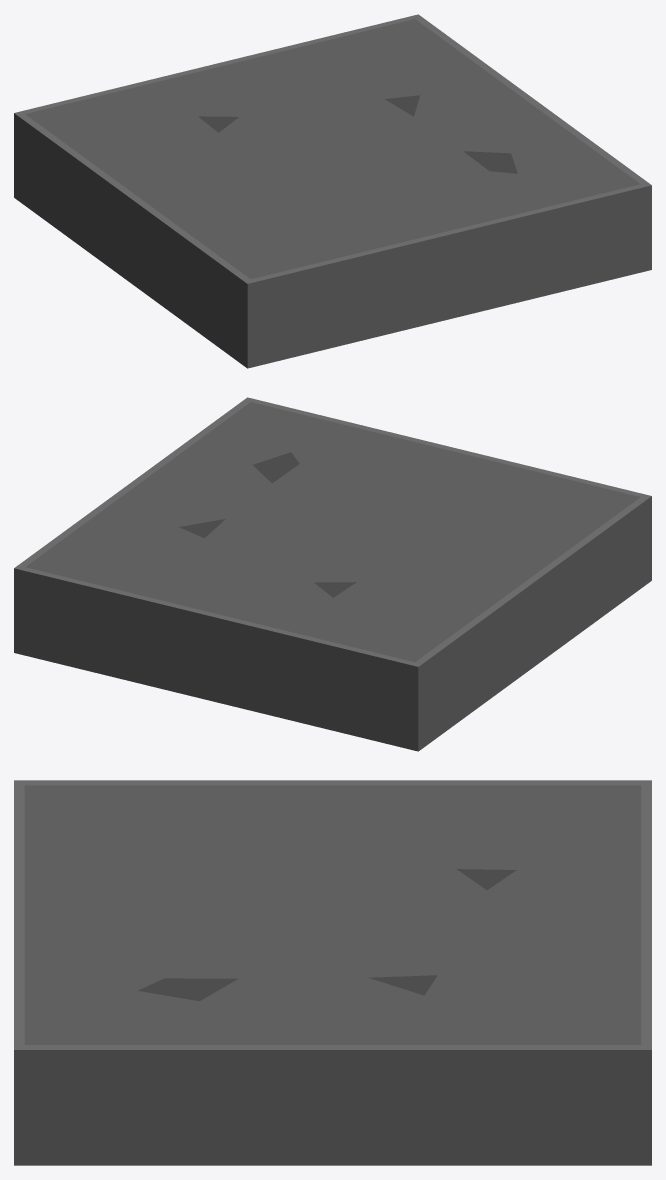
File: ConcrateSlabs_B_4_3.fbx
The picture shows the model from 3 angles, top to bottom: view 1: azimuth 30°, elevation 25°; view 2: azimuth 150°, elevation 25°; view 3: azimuth 270°, elevation 25°; orthographic projection. The views are drawn at different scales.
Parts seen in each view (by area): view 1: ConcrateSlabs_B_4_3; view 2: ConcrateSlabs_B_4_3; view 3: ConcrateSlabs_B_4_3.
Boxes of the visible parts, x1=… form: ConcrateSlabs_B_4_3: x1=14, y1=14, x2=651, y2=368; ConcrateSlabs_B_4_3: x1=14, y1=397, x2=651, y2=751; ConcrateSlabs_B_4_3: x1=14, y1=780, x2=651, y2=1165.
Size of the model in its own units: 200 by 40 by 200.
